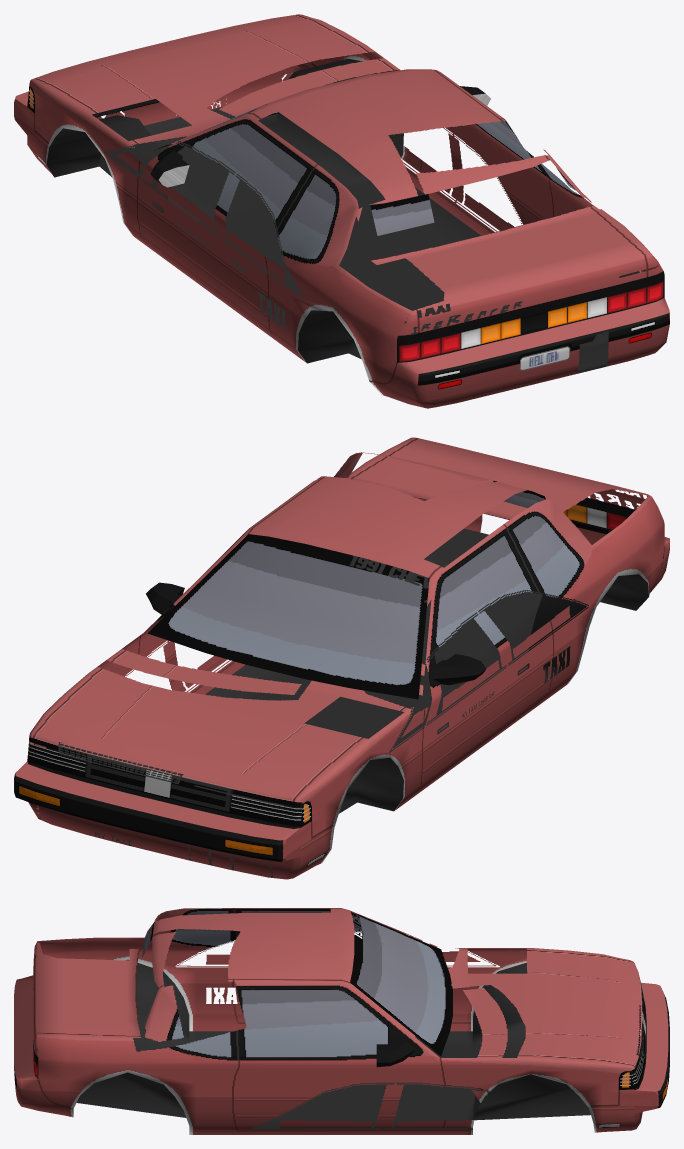
File: 89trofeo.fbx
3 views of the same model, one above another, from view 1: azimuth 30°, elevation 25°; view 2: azimuth 150°, elevation 25°; view 3: azimuth 270°, elevation 25° (orthographic). The views are drawn at different scales.
Parts seen in each view (by area): view 1: 89trofeo; view 2: 89trofeo; view 3: 89trofeo.
Boxes of the visible parts, left/top/right/bottom form: 89trofeo: left=14, top=14, right=669, bottom=408; 89trofeo: left=14, top=437, right=669, bottom=879; 89trofeo: left=14, top=908, right=669, bottom=1134.
Bounding box in the file's own units: 2.14 × 1.09 × 4.49.
